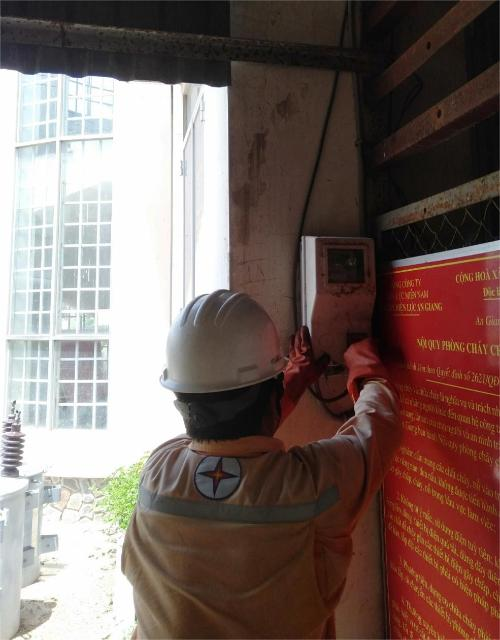gloves: (268, 321, 330, 428), (336, 332, 411, 407)
helmet: (157, 280, 289, 404)
